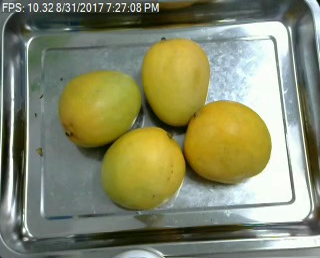Mango: (183, 99, 272, 180), (102, 126, 184, 209), (57, 70, 139, 146), (144, 37, 210, 122)
